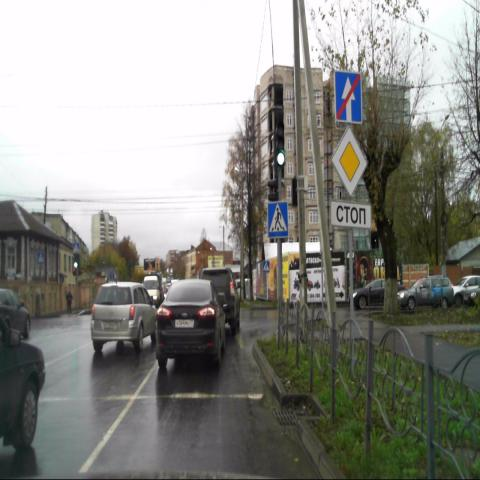2_1: (331, 126, 367, 197)
5_19_1: (268, 202, 288, 238)
5_6: (334, 72, 361, 124)
6_16: (330, 199, 372, 229)
